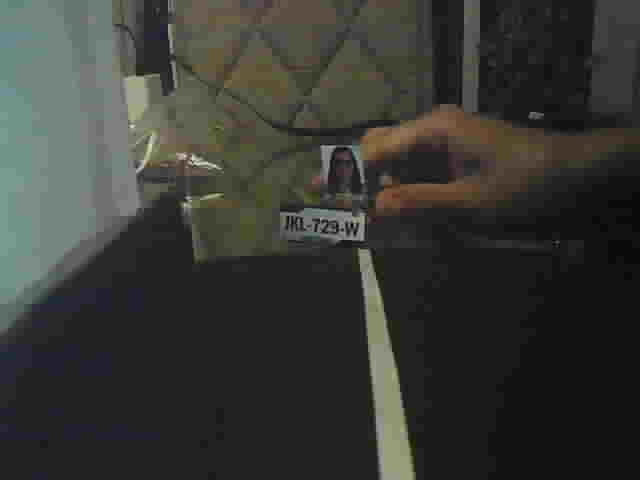PLACA: (276, 201, 369, 248)
ROSTRO: (322, 145, 365, 194)
